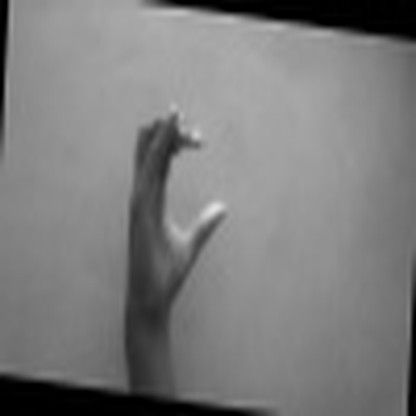c: (119, 95, 232, 294)
